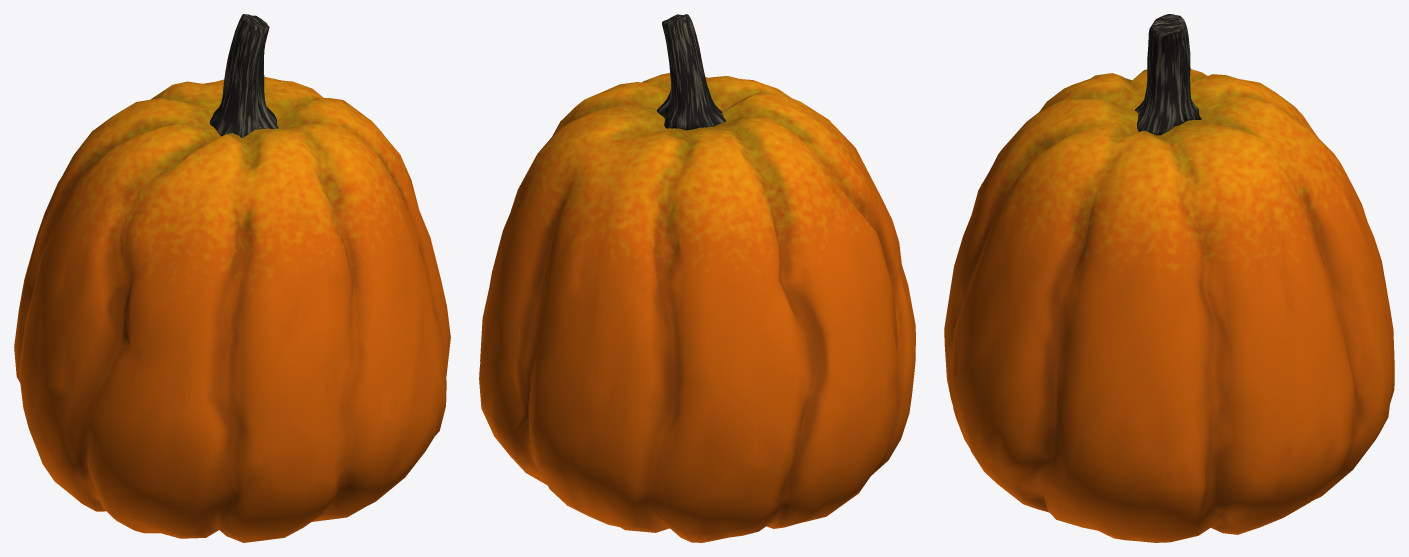
Rendered from calabaza.fbx.
3 views of the same model, side by side, from view 1: azimuth 30°, elevation 25°; view 2: azimuth 150°, elevation 25°; view 3: azimuth 270°, elevation 25° (orthographic). The views are drawn at different scales.
Parts seen in each view (by area): view 1: Pumpkin; view 2: Pumpkin; view 3: Pumpkin.
Boxes of the visible parts, x1,y1,x2,y2 form: Pumpkin: [14, 14, 450, 542]; Pumpkin: [479, 14, 915, 542]; Pumpkin: [944, 14, 1394, 542].
Size of the model in its own units: 143 by 168 by 142.
2 materials, 2 textured.
